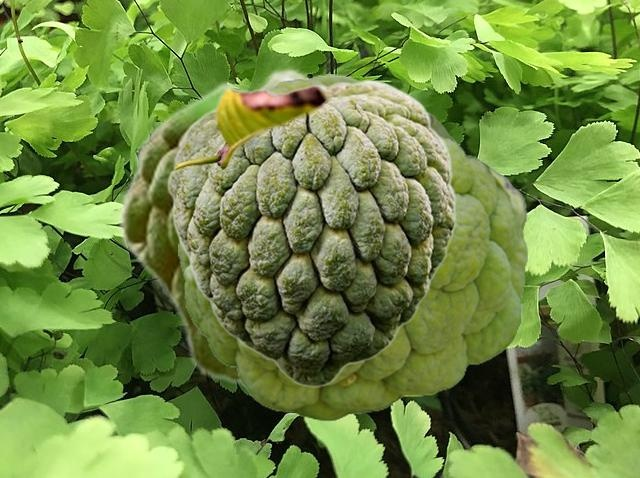atis: (178, 74, 527, 420), (166, 78, 455, 386), (115, 66, 311, 388)
